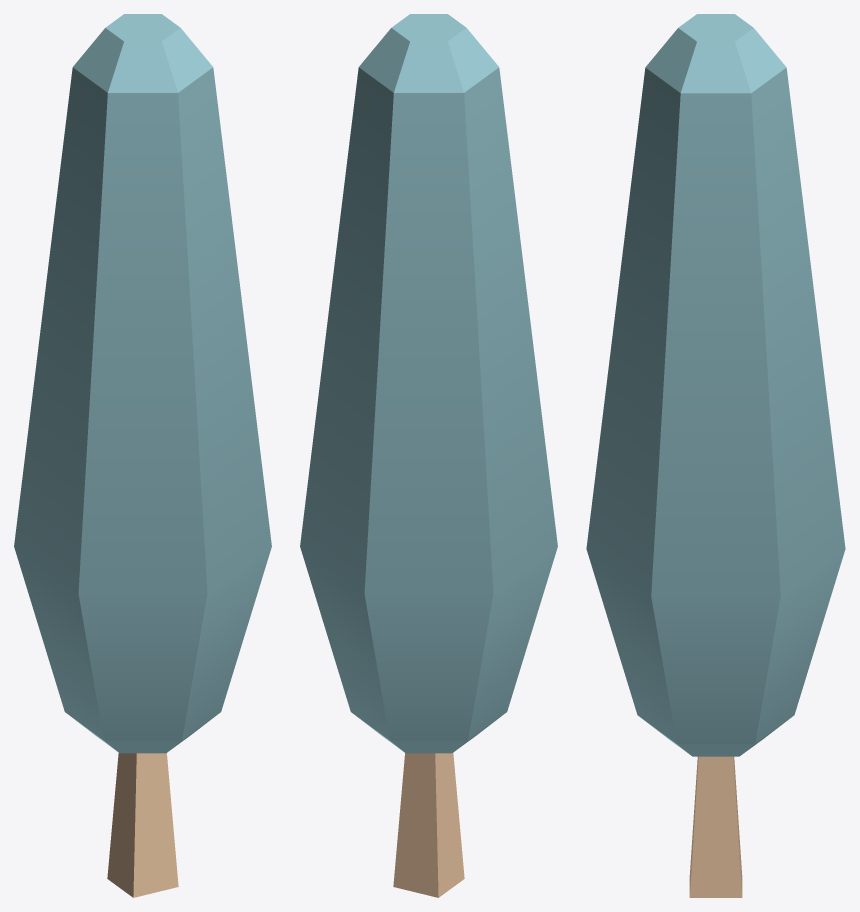
Rendered from tree_tall_dark.gltf.
3 views of the same model, side by side, from view 1: azimuth 30°, elevation 25°; view 2: azimuth 150°, elevation 25°; view 3: azimuth 270°, elevation 25° (orthographic).
Visible parts, largest first — view 1: tree_tall_dark; view 2: tree_tall_dark; view 3: tree_tall_dark.
Boxes of the visible parts, <box> form: tree_tall_dark: <box>14,14,271,897</box>; tree_tall_dark: <box>300,14,557,897</box>; tree_tall_dark: <box>586,14,845,897</box>.
Bounding box in the file's own units: 0.3996 × 1.69 × 0.4614.
